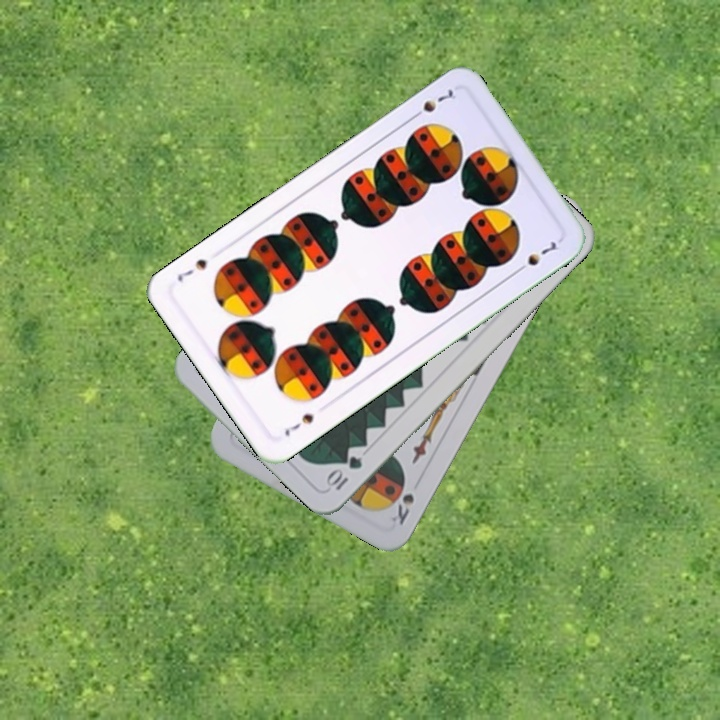G10: (322, 452, 365, 493)
S7: (406, 85, 459, 123), (280, 409, 317, 440)
SK: (386, 489, 417, 528)
